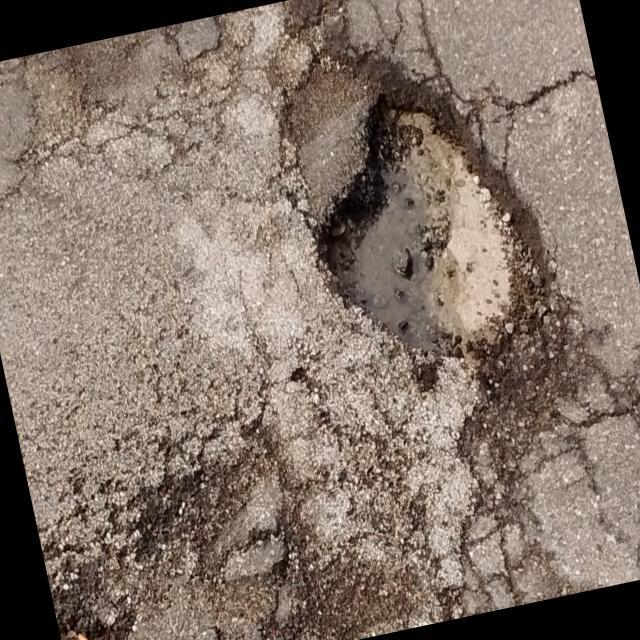Potholes: (246, 19, 580, 436), (8, 337, 338, 640)
